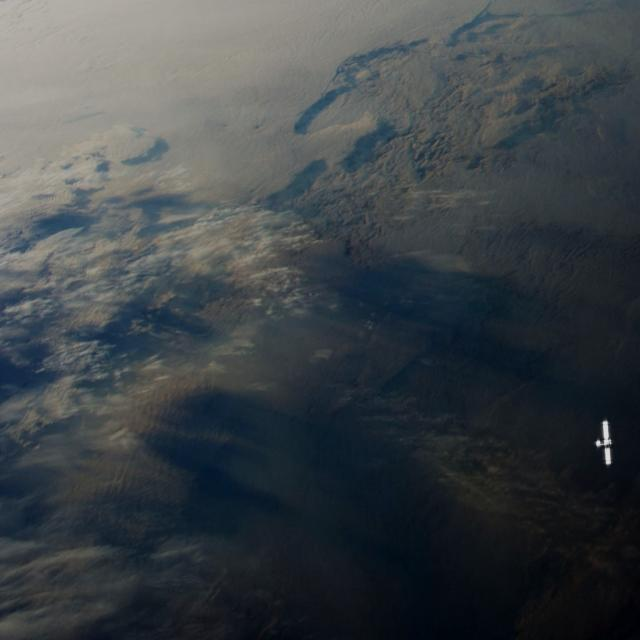satellite: (592, 410, 625, 471)
